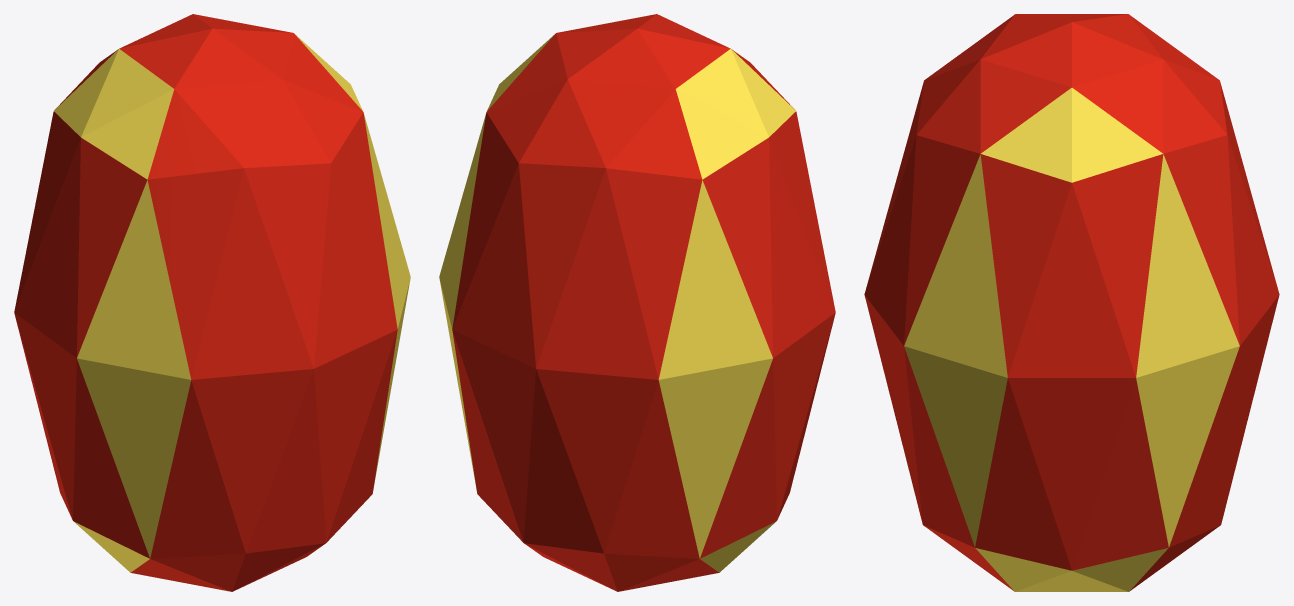
File: SEMILLA DE GIRASOL.fbx
3 views of the same model, side by side, from view 1: azimuth 30°, elevation 25°; view 2: azimuth 150°, elevation 25°; view 3: azimuth 270°, elevation 25° (orthographic). The views are drawn at different scales.
Parts seen in each view (by area): view 1: Icosphere; view 2: Icosphere; view 3: Icosphere.
Boxes of the visible parts, bbox=[...] form: Icosphere: bbox=[14, 14, 410, 591]; Icosphere: bbox=[439, 14, 835, 591]; Icosphere: bbox=[864, 14, 1279, 591].
Size of the model in its own units: 145 by 227 by 152.
